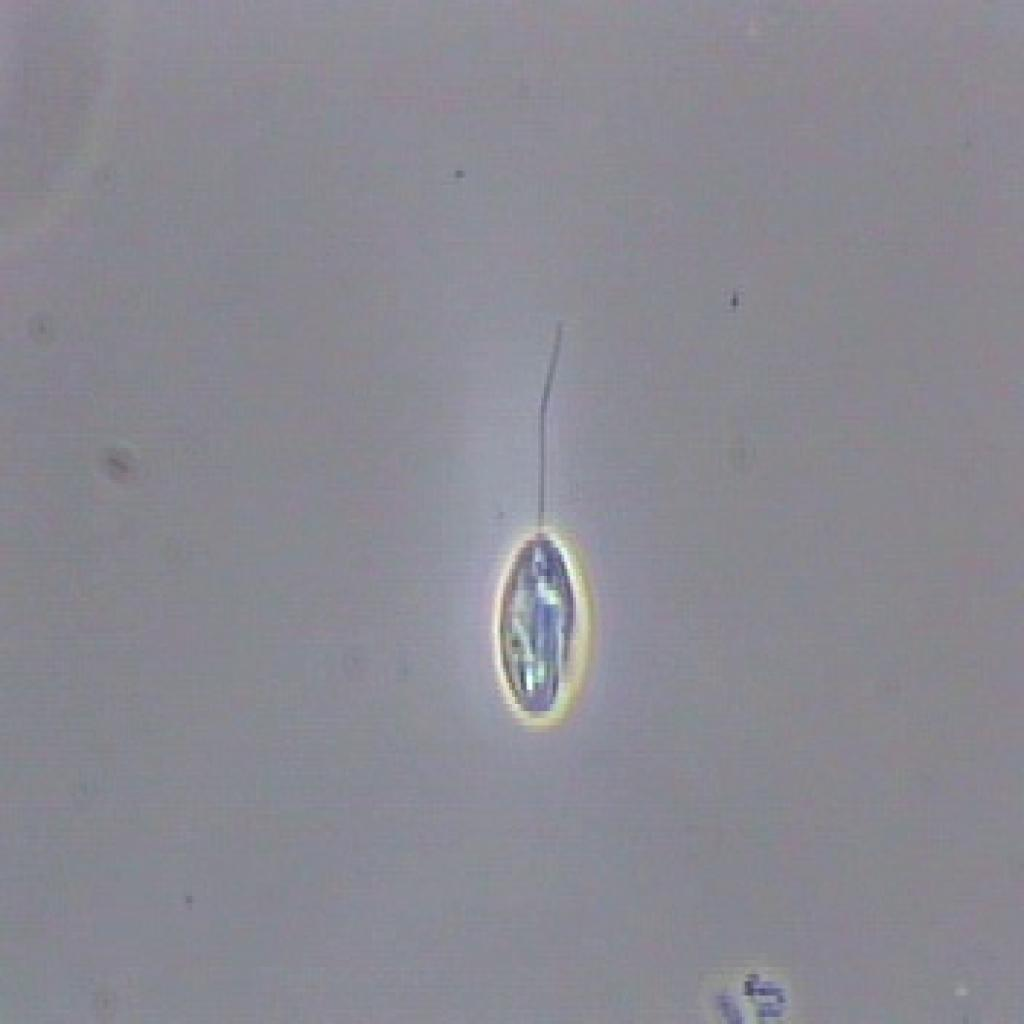Flagellates: (467, 318, 609, 734)
